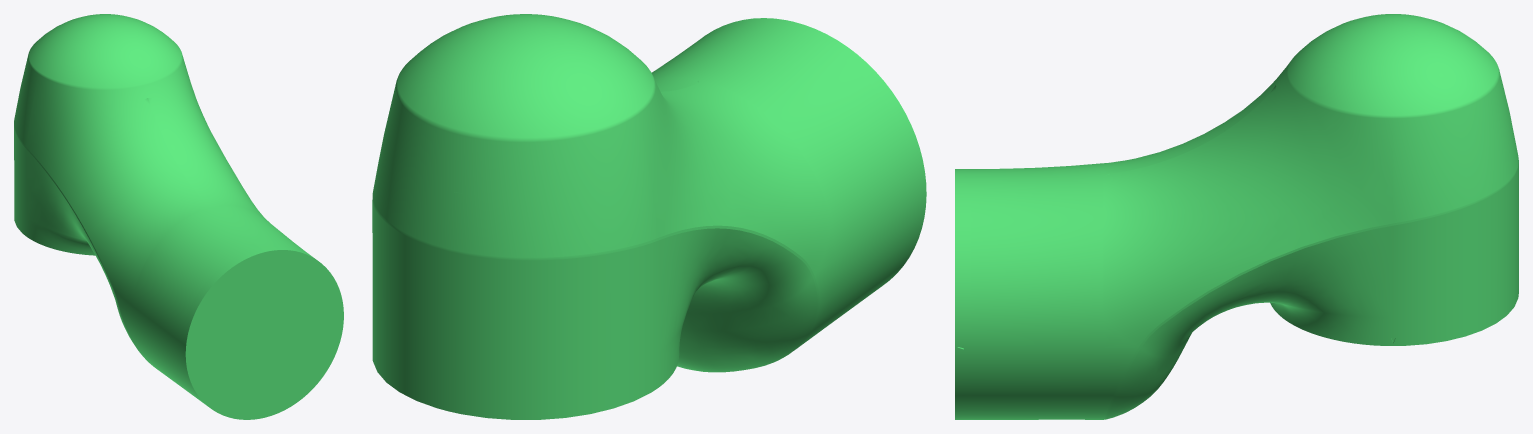
3 renders of one model, left to right at view 1: azimuth 30°, elevation 25°; view 2: azimuth 150°, elevation 25°; view 3: azimuth 270°, elevation 25°, orthographic. The views are drawn at different scales.
Visible parts, largest first — view 1: 02_FP3_SHOULDER; view 2: 02_FP3_SHOULDER; view 3: 02_FP3_SHOULDER.
Boxes of the visible parts, x1,y1,x2,y2 form: 02_FP3_SHOULDER: [14, 14, 343, 419]; 02_FP3_SHOULDER: [372, 14, 926, 419]; 02_FP3_SHOULDER: [955, 14, 1518, 419].
Size of the model in its own units: 0.11 by 0.247 by 0.1844.
